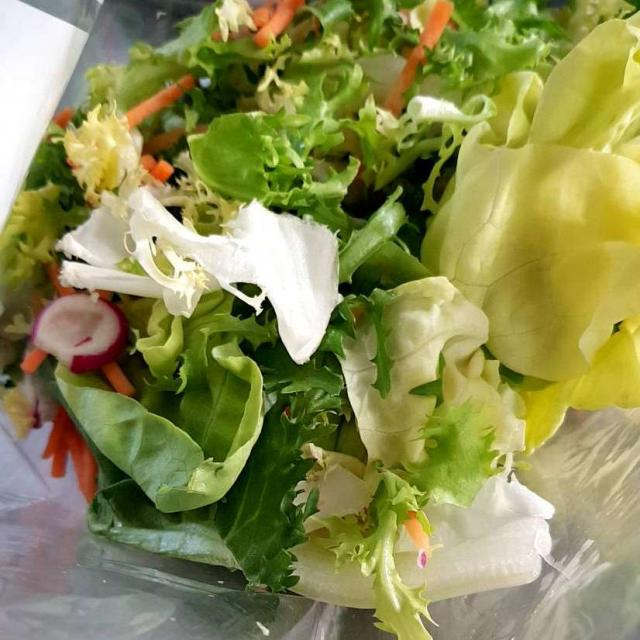mixed-salad-chopped-without-sauce: (38, 34, 632, 595)
